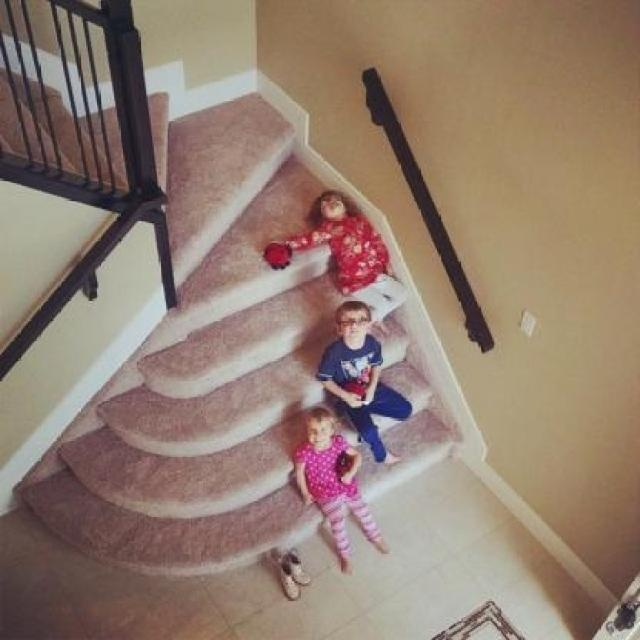stair: (0, 66, 462, 577)
